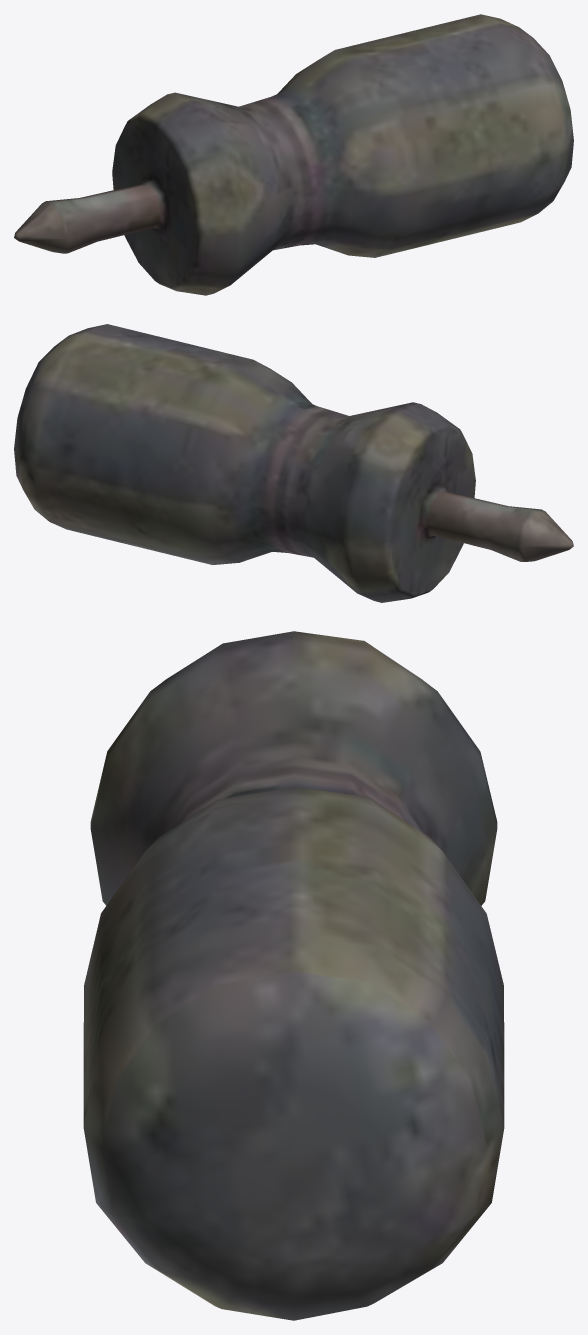
Rendered from screwdriver_f.glb.
The picture shows the model from 3 angles, top to bottom: view 1: azimuth 30°, elevation 25°; view 2: azimuth 150°, elevation 25°; view 3: azimuth 270°, elevation 25°; orthographic projection. The views are drawn at different scales.
Parts seen in each view (by area): view 1: screwdriver_f; view 2: screwdriver_f; view 3: screwdriver_f.
Boxes of the visible parts, <box> form: screwdriver_f: <box>14,14,573,295</box>; screwdriver_f: <box>14,324,573,602</box>; screwdriver_f: <box>83,631,504,1320</box>.
Size of the model in its own units: 0.0379 by 0.0129 by 0.0129.
1 material, 1 textured.
